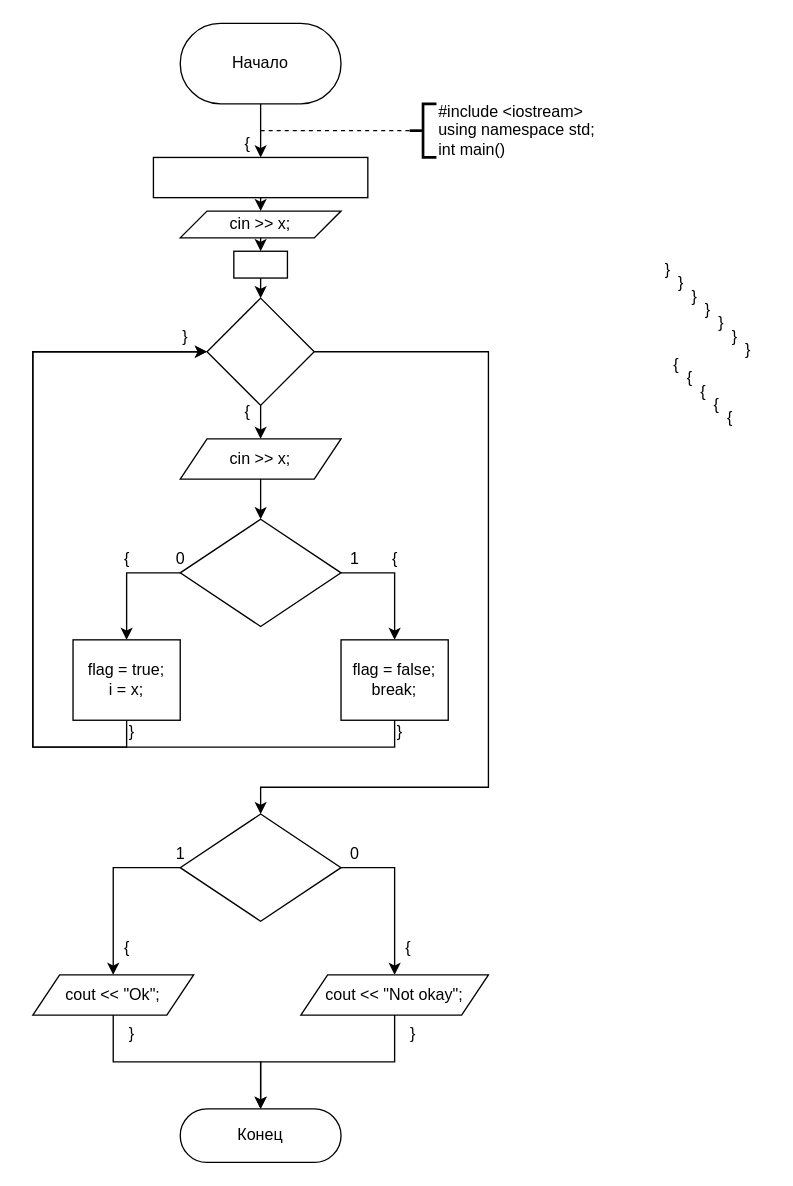
Some shapes in this 793 by 1186 pixel diagram are drawn without their labels. Each missing label, with the box of its shape:
i = x;: (232, 250, 287, 278)
if (flag == true): (179, 813, 341, 921)
if (i > x && x!=0): (179, 518, 341, 626)
int x, i; bool flag;: (152, 156, 368, 198)
while (x != 0): (206, 297, 314, 405)
